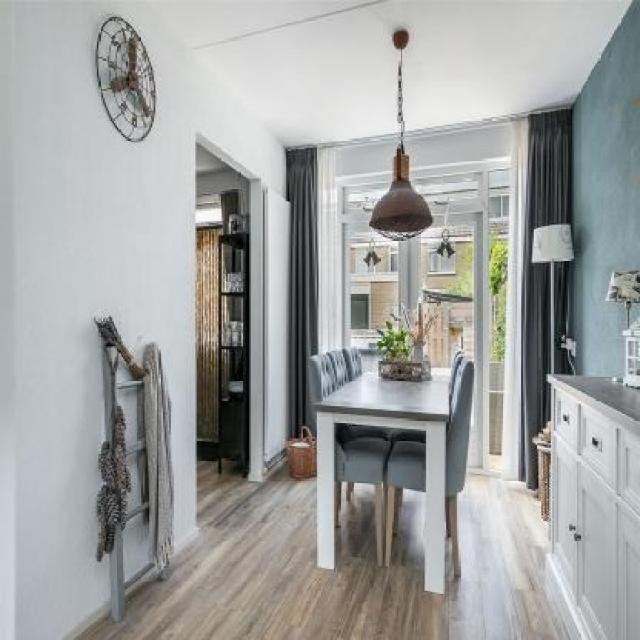floor: (70, 456, 581, 640)
